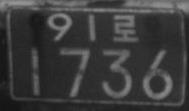1: (22, 47, 53, 95), (79, 13, 104, 42)
3: (101, 48, 132, 99)
6: (141, 49, 174, 101)
7: (59, 46, 90, 97)
9: (47, 11, 73, 41)
로: (112, 13, 139, 43)
